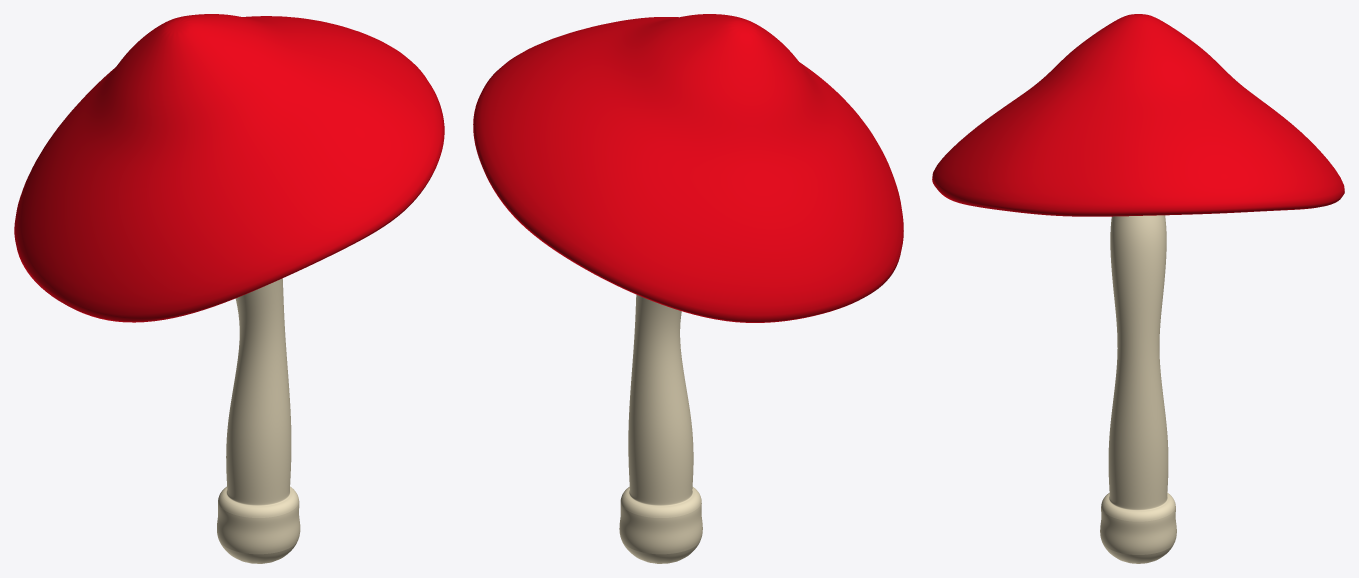
Rendered from Toadstool_04.fbx.
The picture shows the model from 3 angles, left to right: view 1: azimuth 30°, elevation 25°; view 2: azimuth 150°, elevation 25°; view 3: azimuth 270°, elevation 25°; orthographic projection. The views are drawn at different scales.
Visible parts, largest first — view 1: Cylinder; view 2: Cylinder; view 3: Cylinder.
Part boxes in pixels (x1,y1,x2,y2): Cylinder: [14, 14, 444, 563]; Cylinder: [473, 14, 903, 563]; Cylinder: [932, 14, 1344, 563].
Bounding box in the file's own units: 1157 × 1663 × 1219.
